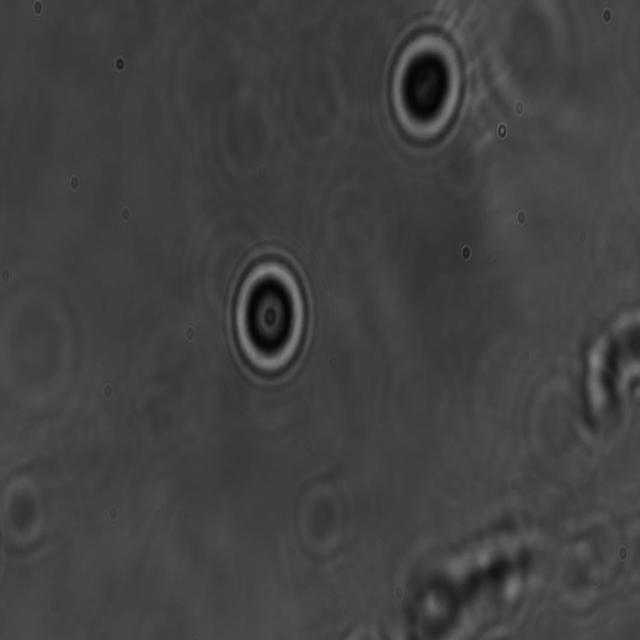LCELL: (222, 236, 316, 397)
